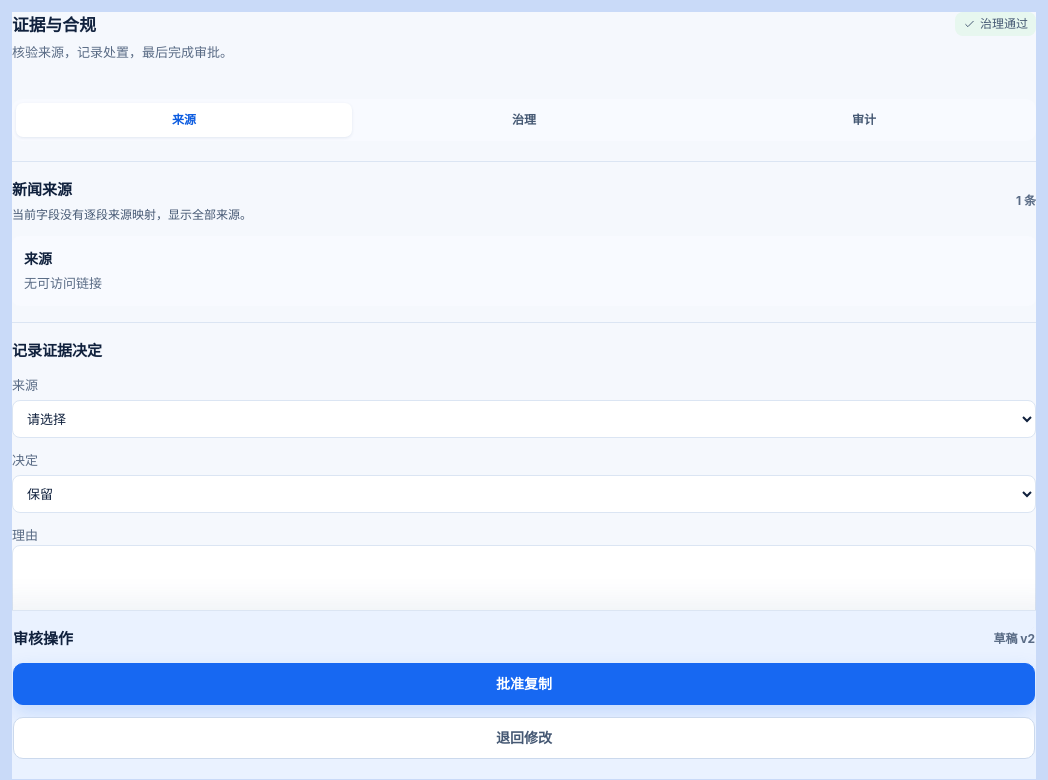
Test: keeps evidence and return reasons independent
Type "保留原始来源" into the text box labelled "理由" at (524, 591), box [12,545,1036,636]
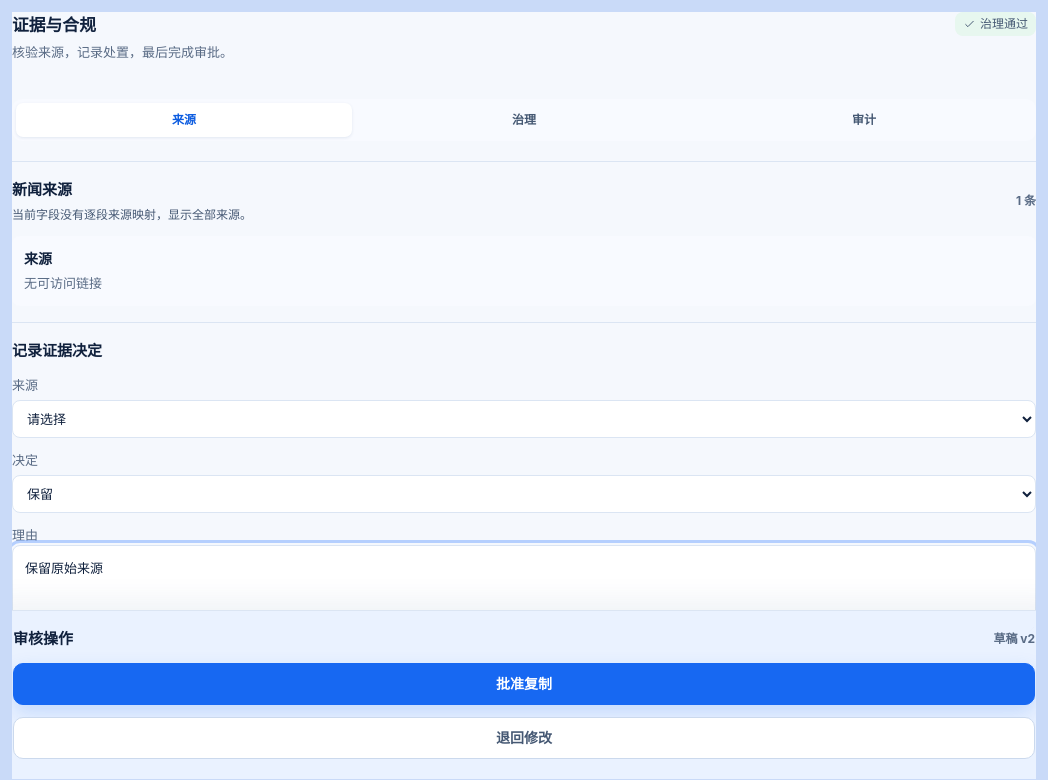
Click the button "退回修改" at (524, 738), box [13,717,1035,759]
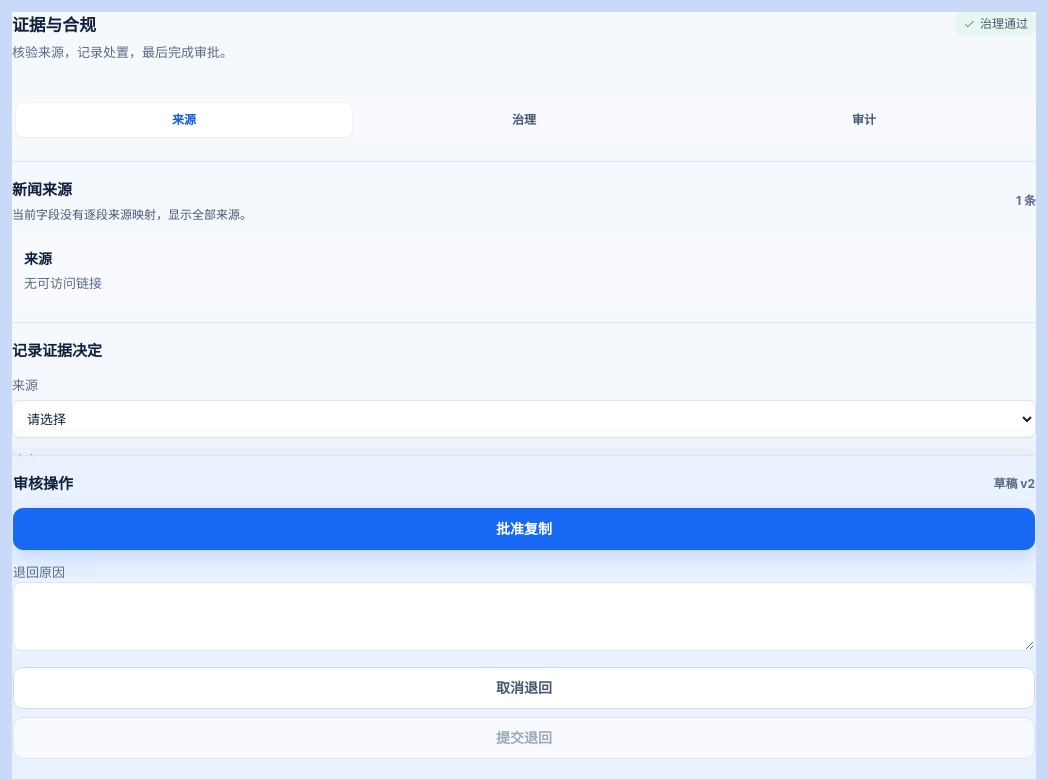
Expected: the button "提交退回" is disabled, [13,717,1035,759]
